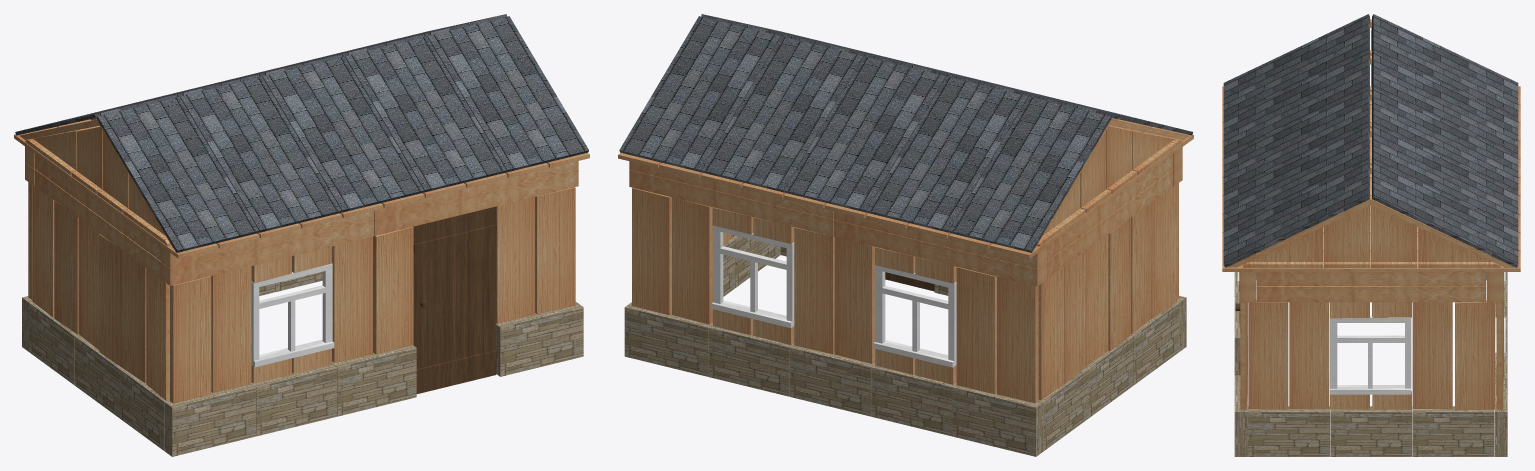
File: home.FBX
3 views of the same model, side by side, from view 1: azimuth 30°, elevation 25°; view 2: azimuth 150°, elevation 25°; view 3: azimuth 270°, elevation 25° (orthographic). The views are drawn at different scales.
Visible parts, largest first — view 1: Box052, Box120, Box124, Box122, Box123, Box121, Box007, Box013, Box012, Box003, Box098, Box112 (+15 smaller); view 2: Box127, Box128, Box126, Box129, Box125, Box013, Box027, Box019, Box026, Box023, Box025, Box102 (+19 smaller); view 3: Box133, Box108, Box126, Box124, Box030, Box032, Box128, Box122, Box127, Box121, Box129, Box120 (+14 smaller).
Part boxes in pixels (box(x1,y1,x2,y2)): Box052: box(413, 206, 497, 393); Box120: box(97, 96, 258, 252); Box124: box(427, 16, 588, 172); Box122: box(262, 56, 423, 212); Box123: box(345, 36, 506, 192); Box121: box(180, 76, 341, 232); Box007: box(292, 226, 413, 373); Box013: box(54, 201, 146, 383); Box012: box(146, 268, 211, 403); Box003: box(211, 256, 291, 392); Box098: box(161, 211, 373, 285); Box112: box(25, 126, 170, 245); Box127: box(949, 96, 1111, 252); Box128: box(866, 76, 1028, 232); Box126: box(619, 16, 780, 172); Box129: box(702, 36, 863, 192); Box125: box(784, 56, 945, 212); Box013: box(1064, 202, 1152, 384); Box027: box(997, 267, 1063, 403); Box019: box(915, 257, 996, 394); Box026: box(753, 217, 834, 354); Box023: box(672, 197, 753, 335); Box025: box(834, 237, 915, 374); Box102: box(833, 211, 1046, 286); Box133: box(1243, 205, 1500, 267); Box108: box(1257, 272, 1486, 302); Box126: box(1372, 160, 1518, 267); Box124: box(1223, 160, 1369, 267); Box030: box(1372, 302, 1452, 409); Box032: box(1289, 302, 1369, 409); Box128: box(1372, 50, 1518, 155); Box122: box(1223, 87, 1369, 192); Box127: box(1372, 14, 1518, 118); Box121: box(1223, 50, 1369, 155); Box129: box(1372, 124, 1518, 228); Box120: box(1223, 14, 1369, 118).
Size of the model in its own units: 202 by 134 by 139.
